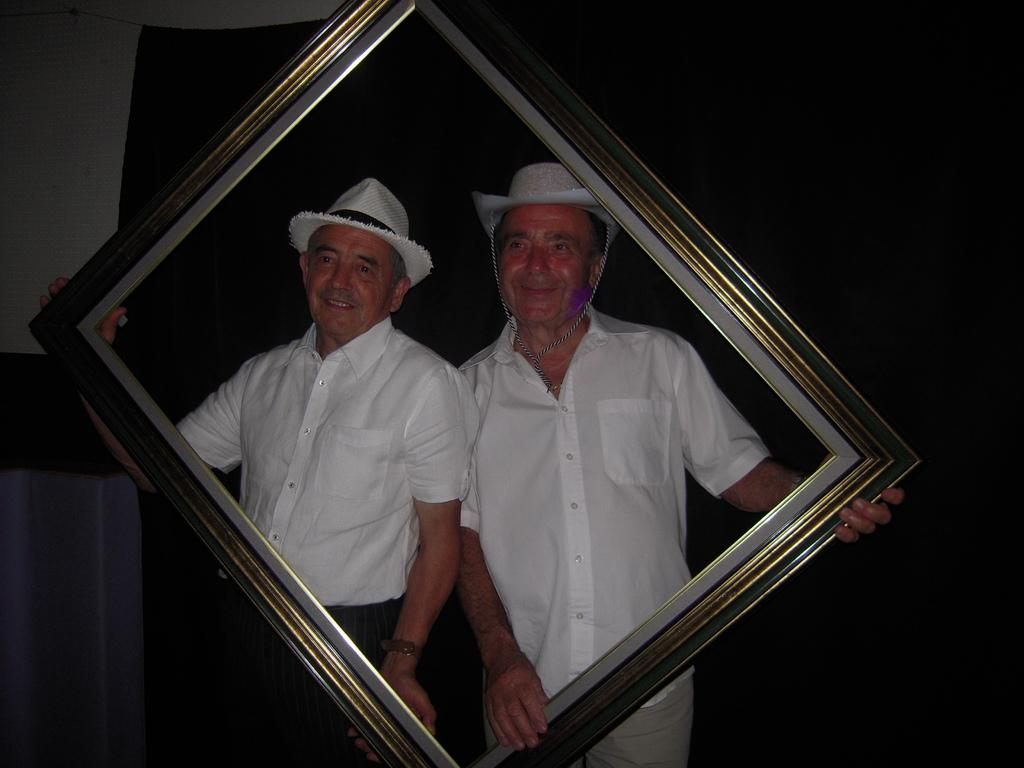Hat: (472, 164, 616, 391), (288, 174, 432, 290)
